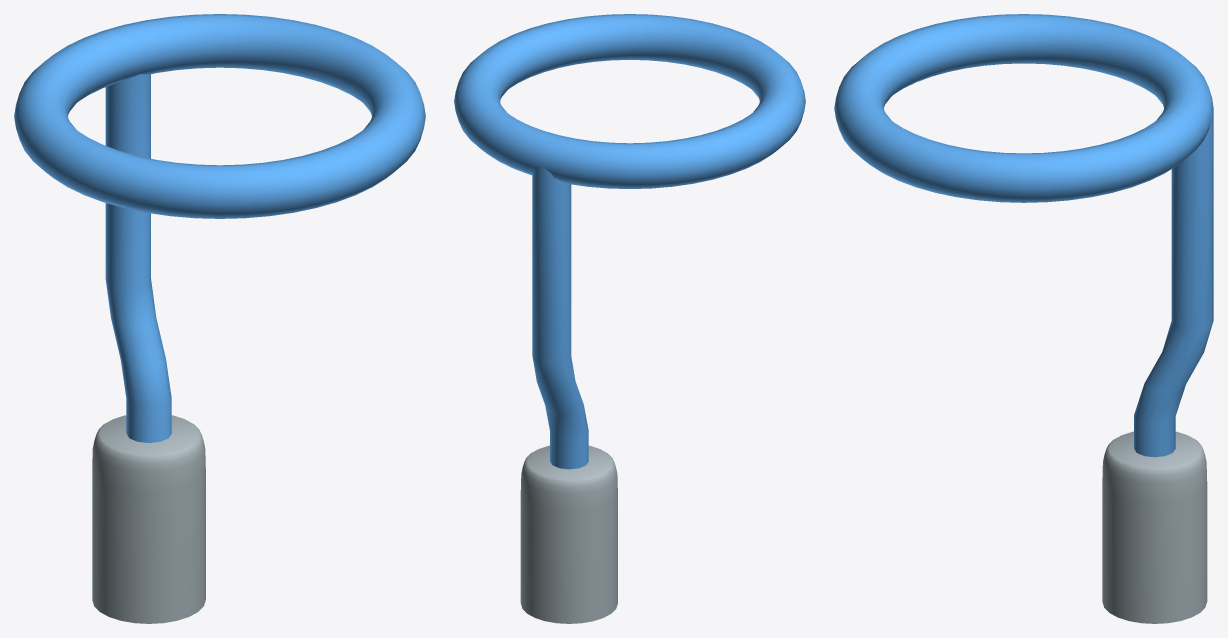
Rendered from hoop_teamBlue.glb.
The picture shows the model from 3 angles, left to right: view 1: azimuth 30°, elevation 25°; view 2: azimuth 150°, elevation 25°; view 3: azimuth 270°, elevation 25°; orthographic projection. The views are drawn at different scales.
Visible parts, largest first — view 1: hoop_teamBlue; view 2: hoop_teamBlue; view 3: hoop_teamBlue.
Part boxes in pixels (x1,y1,x2,y2): hoop_teamBlue: (14, 14, 425, 623); hoop_teamBlue: (454, 14, 805, 623); hoop_teamBlue: (834, 14, 1213, 623).
Size of the model in its own units: 0.7001 by 1.05 by 0.7001.
